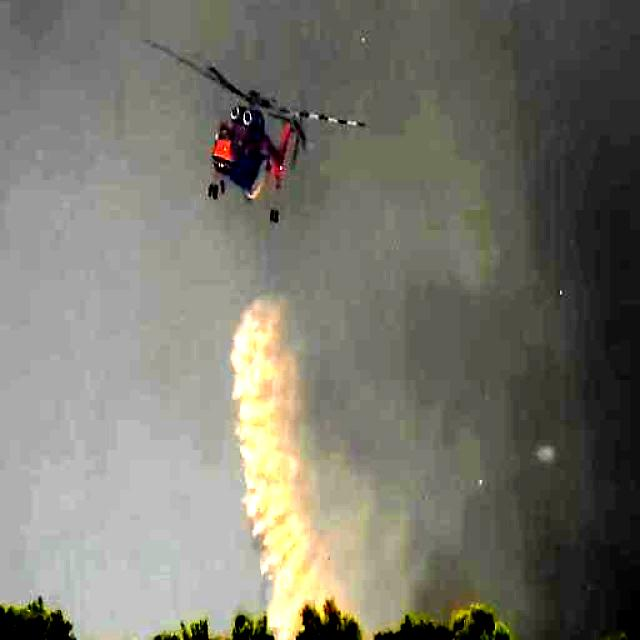drone: (184, 40, 335, 240)
